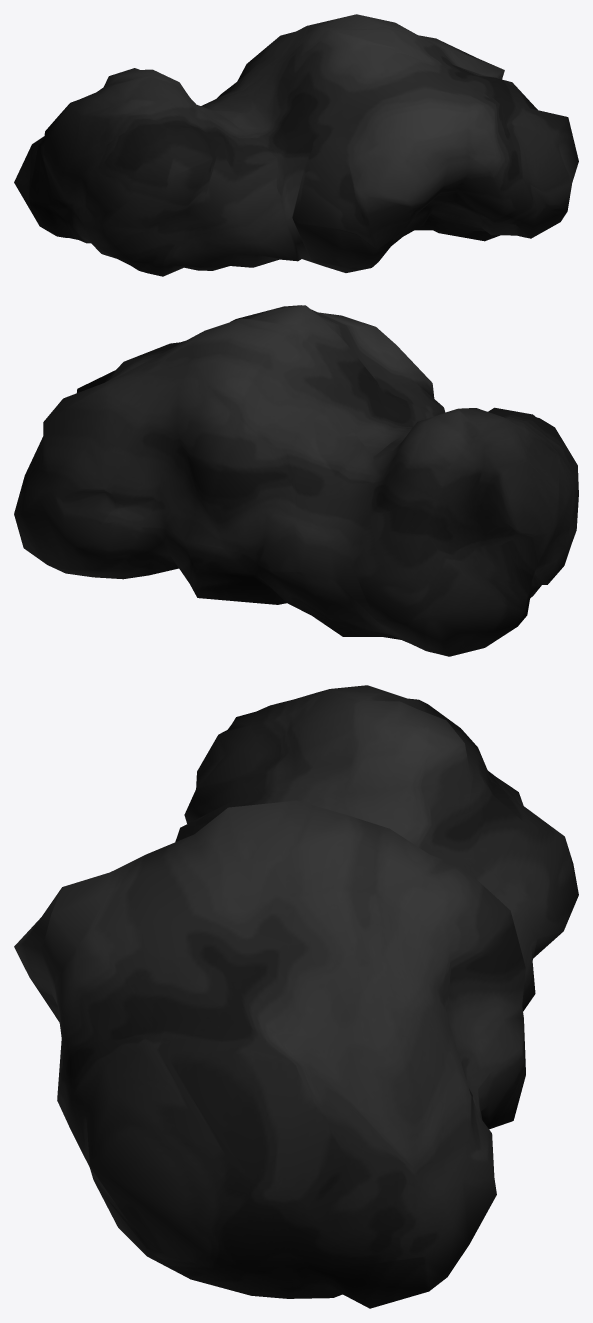
Rendered from 08-Rock.fbx.
The picture shows the model from 3 angles, top to bottom: view 1: azimuth 30°, elevation 25°; view 2: azimuth 150°, elevation 25°; view 3: azimuth 270°, elevation 25°; orthographic projection. The views are drawn at different scales.
Parts seen in each view (by area): view 1: 08-CoralRock.043; view 2: 08-CoralRock.043; view 3: 08-CoralRock.043.
Part boxes in pixels (x1,y1,x2,y2): 08-CoralRock.043: (14,14,578,276); 08-CoralRock.043: (14,305,578,656); 08-CoralRock.043: (14,685,578,1308).
Bounding box in the file's own units: 418 × 204 × 274.
